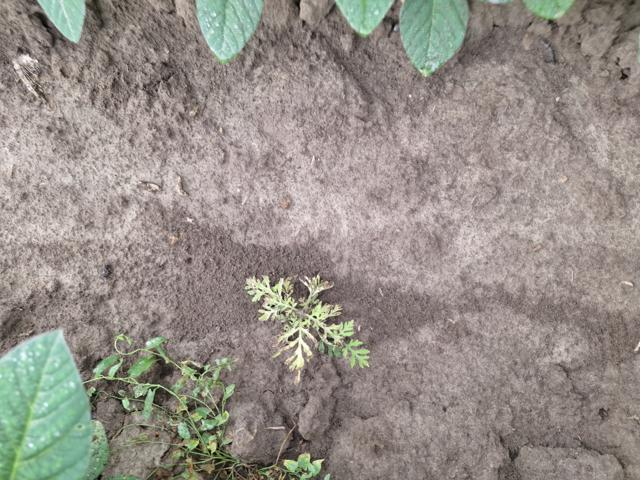bad weed: (87, 332, 355, 477), (234, 271, 399, 378)
